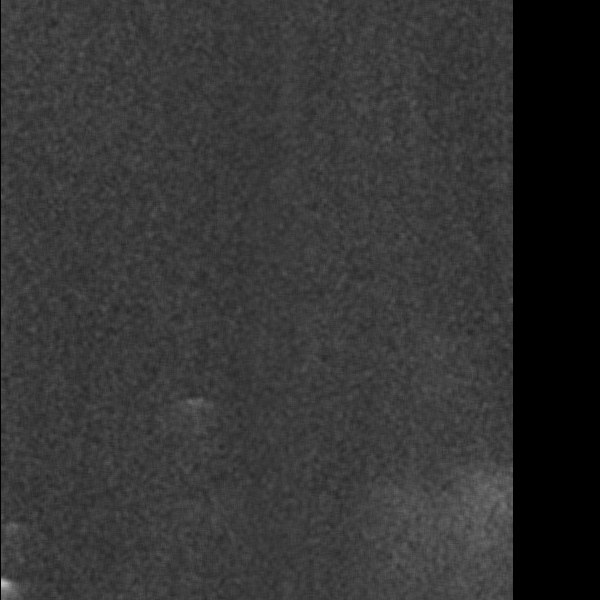spark: (56, 500, 102, 565), (294, 59, 335, 103)
